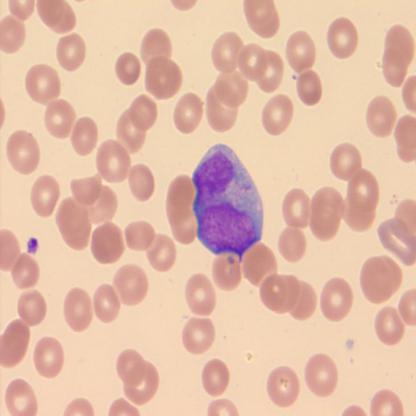Blast: (190, 140, 266, 262)
